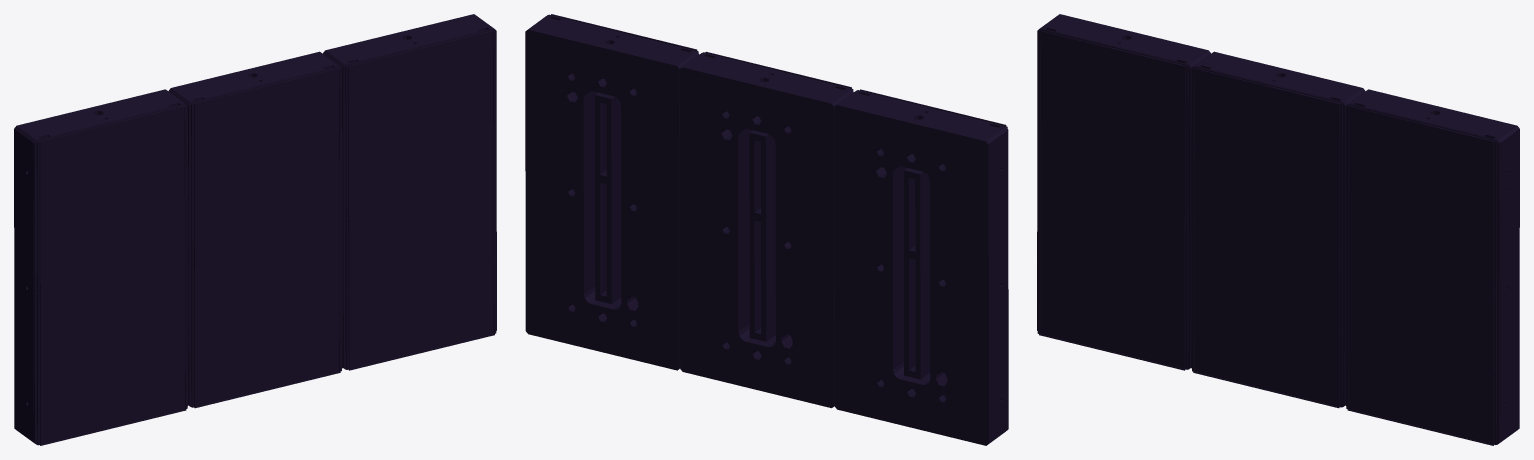
Rendered from detector_1.5M_modules.dae.
3 views of the same model, side by side, from view 1: azimuth 30°, elevation 25°; view 2: azimuth 150°, elevation 25°; view 3: azimuth 330°, elevation 25° (orthographic).
Visible parts, largest first — view 1: node0; view 2: node0; view 3: node0.
Boxes of the visible parts, x1,y1,x2,y2 form: node0: (14, 14, 496, 445); node0: (525, 14, 1008, 445); node0: (1037, 14, 1519, 445).
Size of the model in its own units: 0.1237 by 0.0104 by 0.0778.
